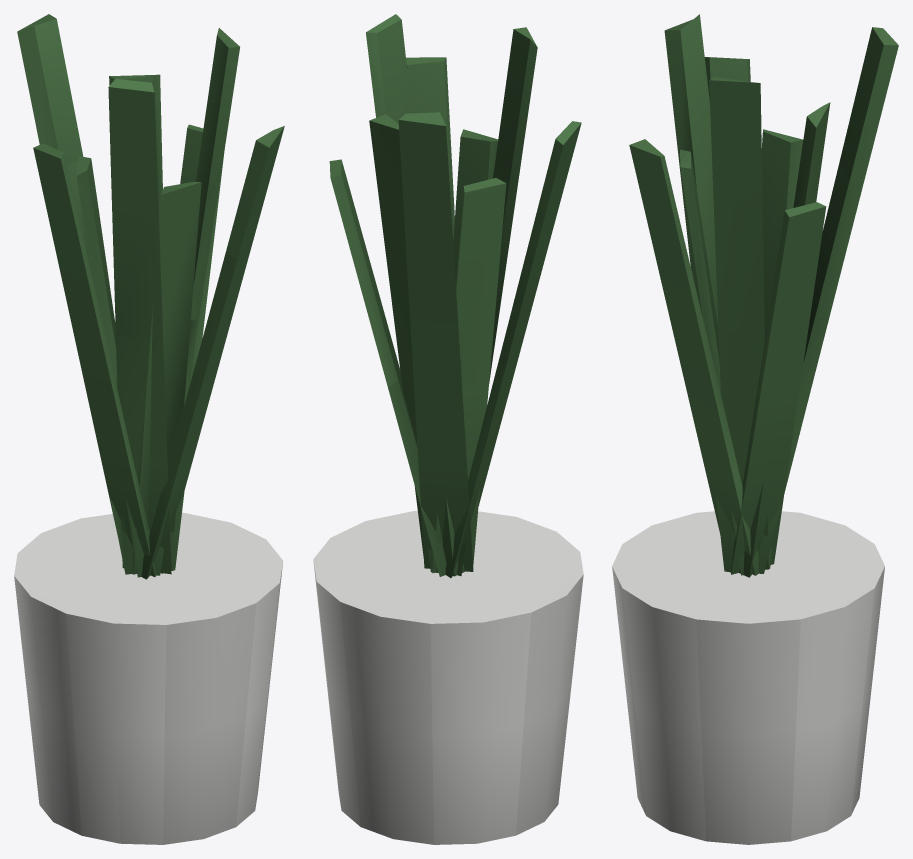
The model's file is plant_snake.glb.
The picture shows the model from 3 angles, left to right: view 1: azimuth 30°, elevation 25°; view 2: azimuth 150°, elevation 25°; view 3: azimuth 270°, elevation 25°; orthographic projection.
Visible parts, largest first — view 1: body; view 2: body; view 3: body.
Part boxes in pixels (box(x1,y1,x2,y2)): body: box(14, 14, 284, 844); body: box(313, 14, 583, 844); body: box(612, 14, 898, 844).
Size of what is drawn, in the model's own units: 0.32 by 0.9776 by 0.3362.
